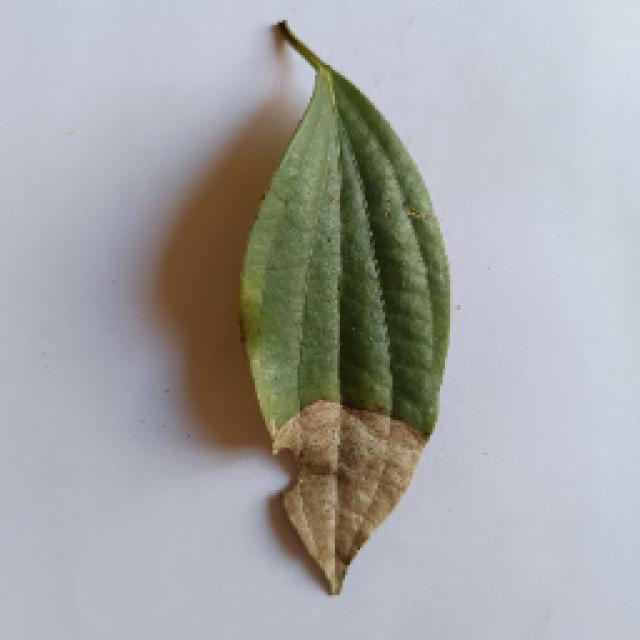footrot: (235, 23, 450, 595)
